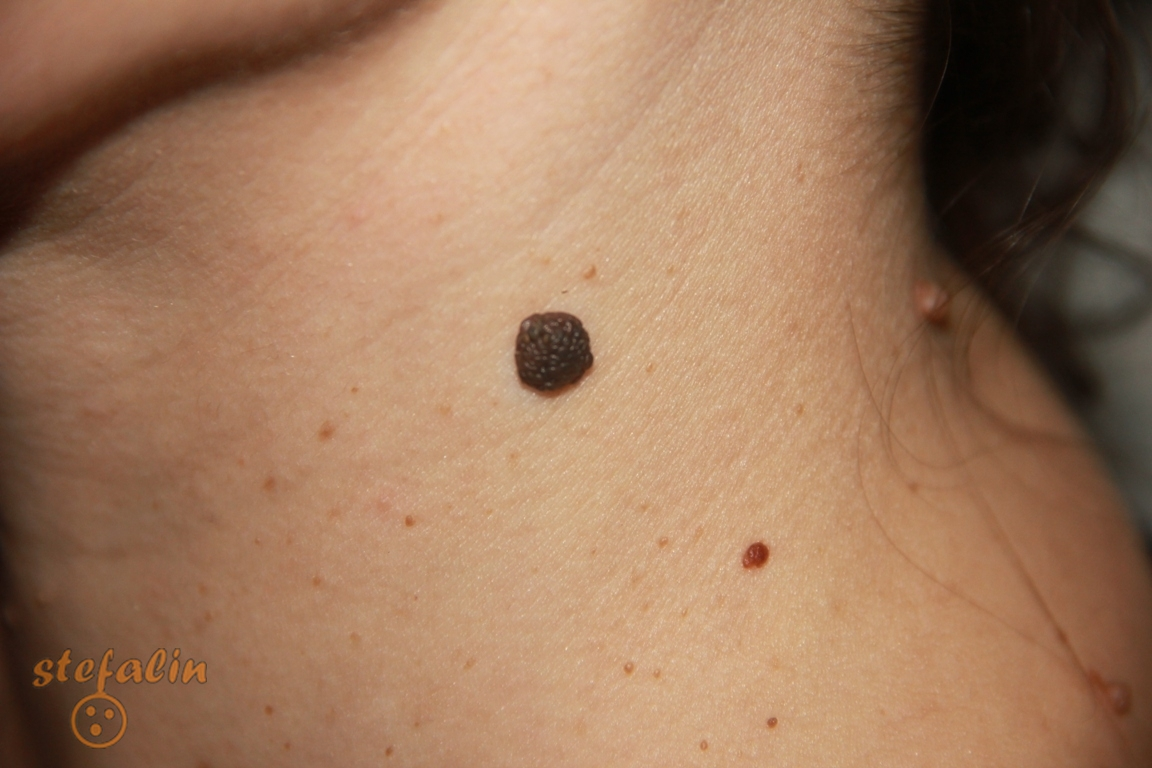mole: (478, 269, 623, 432), (1050, 628, 1150, 740), (885, 252, 981, 351), (719, 522, 818, 602)
